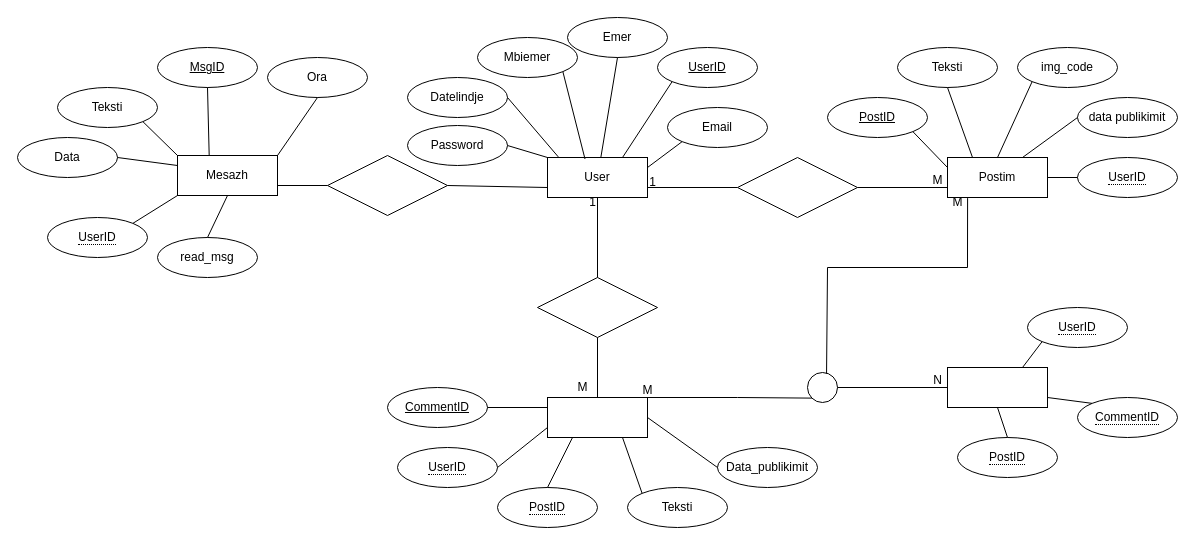
This 1195x545 diagram has some shape labels left out. The shapes that lost their labels are listed below. From the top down, each one's box as (x1, y1, x2, y2) in pixels, then its label:
(326, 154, 448, 216): shkemben
(736, 156, 858, 218): ben
(536, 276, 658, 338): komenton
(946, 366, 1048, 408): Likes
(546, 396, 648, 438): Komente
